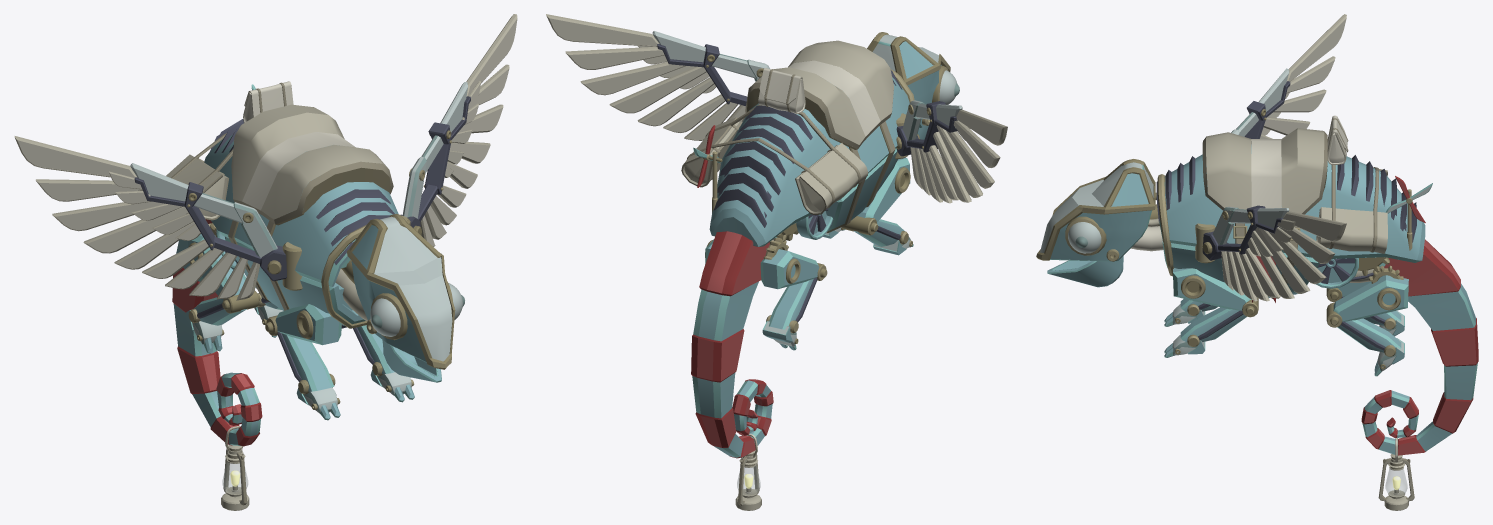
File: Charm-transformed.glb
The picture shows the model from 3 angles, left to right: view 1: azimuth 30°, elevation 25°; view 2: azimuth 150°, elevation 25°; view 3: azimuth 270°, elevation 25°; orthographic projection. The views are drawn at different scales.
Parts seen in each view (by area): view 1: polySurface278, polySurface386, polySurface35, polySurface330, polySurface114, polySurface364, polySurface352, polySurface373, polySurface69, polySurface57, polySurface339, polySurface211 (+2 smaller); view 2: polySurface278, polySurface114, polySurface35, polySurface373, polySurface364, polySurface57, polySurface352, polySurface386, polySurface374, polySurface330, polySurface339, polySurface211 (+7 smaller); view 3: polySurface278, polySurface386, polySurface35, polySurface114, polySurface352, polySurface330, polySurface373, polySurface364, polySurface57, polySurface374, polySurface337, polySurface69 (+6 smaller).
Part boxes in pixels (bbox=[...]): polySurface278: bbox=[14, 14, 517, 300]; polySurface386: bbox=[347, 214, 464, 382]; polySurface35: bbox=[231, 104, 393, 225]; polySurface330: bbox=[265, 304, 414, 420]; polySurface114: bbox=[204, 135, 398, 286]; polySurface364: bbox=[172, 268, 262, 446]; polySurface352: bbox=[185, 234, 283, 353]; polySurface373: bbox=[173, 239, 260, 445]; polySurface69: bbox=[225, 237, 365, 325]; polySurface57: bbox=[210, 119, 394, 264]; polySurface339: bbox=[166, 154, 228, 220]; polySurface211: bbox=[243, 81, 293, 122]; polySurface278: bbox=[546, 14, 1007, 203]; polySurface114: bbox=[709, 77, 909, 246]; polySurface35: bbox=[745, 40, 893, 149]; polySurface373: bbox=[692, 281, 772, 457]; polySurface364: bbox=[691, 329, 773, 458]; polySurface57: bbox=[714, 70, 902, 227]; polySurface352: bbox=[705, 239, 827, 350]; polySurface386: bbox=[867, 32, 959, 139]; polySurface374: bbox=[699, 231, 769, 296]; polySurface330: bbox=[823, 157, 913, 255]; polySurface339: bbox=[795, 143, 868, 214]; polySurface211: bbox=[758, 68, 805, 114]; polySurface278: bbox=[1195, 14, 1346, 301]; polySurface386: bbox=[1036, 159, 1155, 287]; polySurface35: bbox=[1202, 128, 1327, 214]; polySurface114: bbox=[1159, 144, 1425, 262]; polySurface352: bbox=[1326, 275, 1408, 376]; polySurface330: bbox=[1164, 268, 1258, 357]; polySurface373: bbox=[1362, 283, 1477, 454]; polySurface364: bbox=[1361, 318, 1478, 455]; polySurface57: bbox=[1156, 155, 1416, 242]; polySurface374: bbox=[1384, 239, 1460, 296]; polySurface337: bbox=[1316, 207, 1387, 253]; polySurface69: bbox=[1162, 241, 1319, 297].
Size of the model in its own units: 0.1763 by 0.1516 by 0.157.
